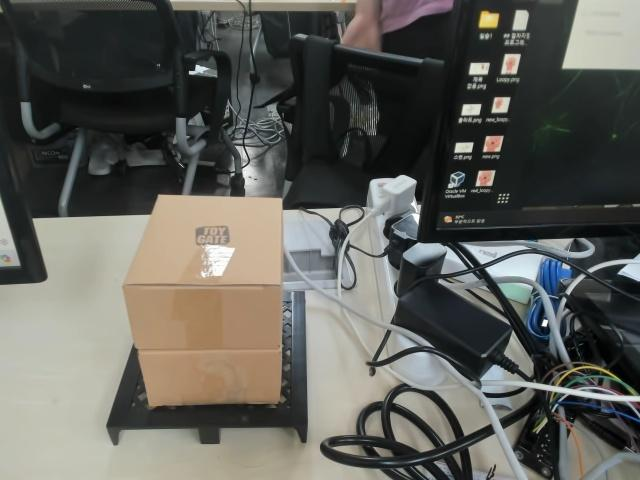box: (105, 194, 309, 447)
